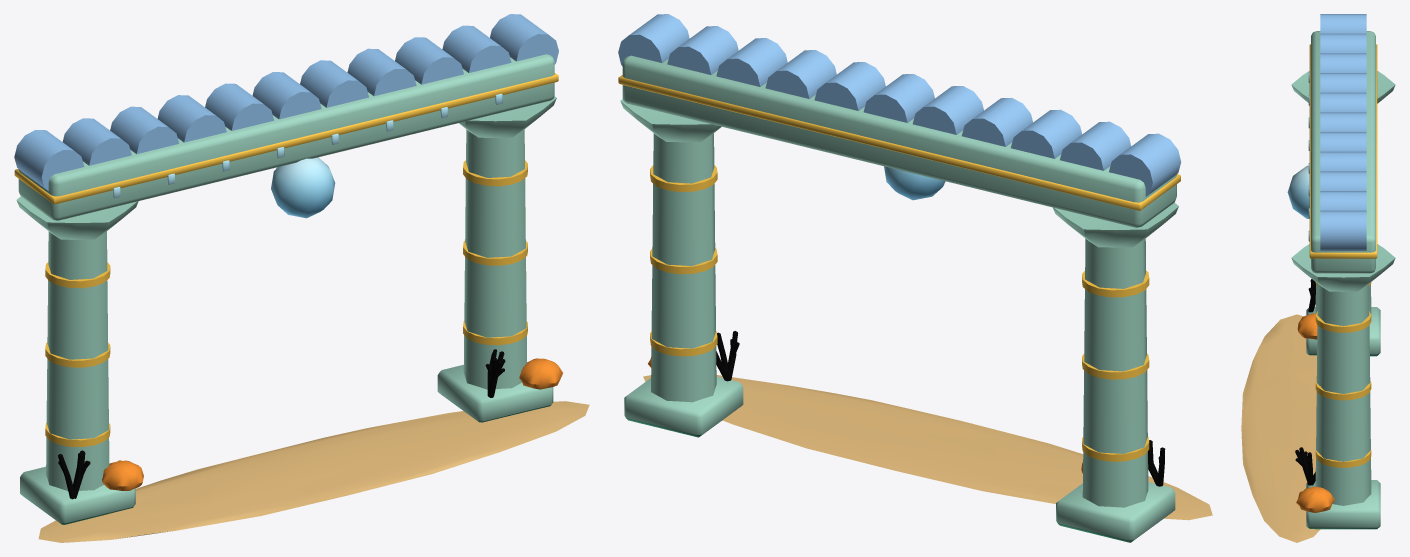
File: AtlantisGate.fbx
3 views of the same model, side by side, from view 1: azimuth 30°, elevation 25°; view 2: azimuth 150°, elevation 25°; view 3: azimuth 270°, elevation 25° (orthographic). The views are drawn at different scales.
Parts seen in each view (by area): view 1: AtlantisGate; view 2: AtlantisGate; view 3: AtlantisGate.
Boxes of the visible parts, box(x1,y1,x2,y2) form: AtlantisGate: box(14, 14, 589, 542); AtlantisGate: box(618, 14, 1212, 542); AtlantisGate: box(1241, 14, 1395, 542).
Bounding box in the file's own units: 11.61 × 7.45 × 3.31.
Materials: 2 (2 with a texture image).
